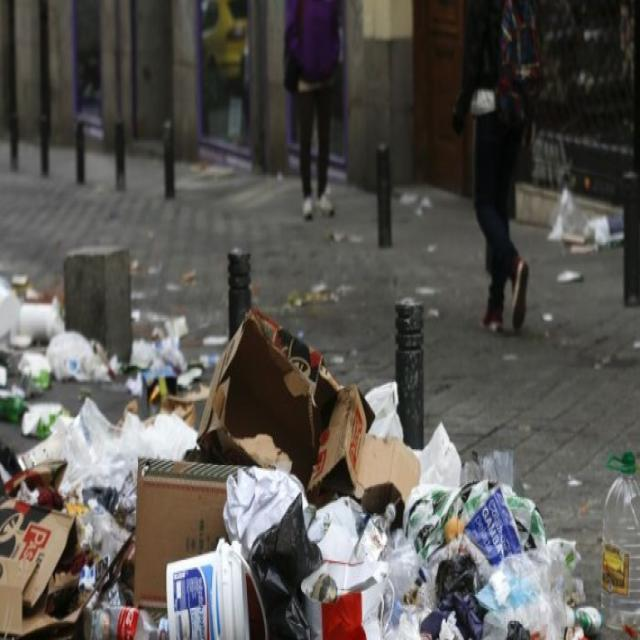garbage: (0, 288, 597, 640), (597, 444, 640, 637)
